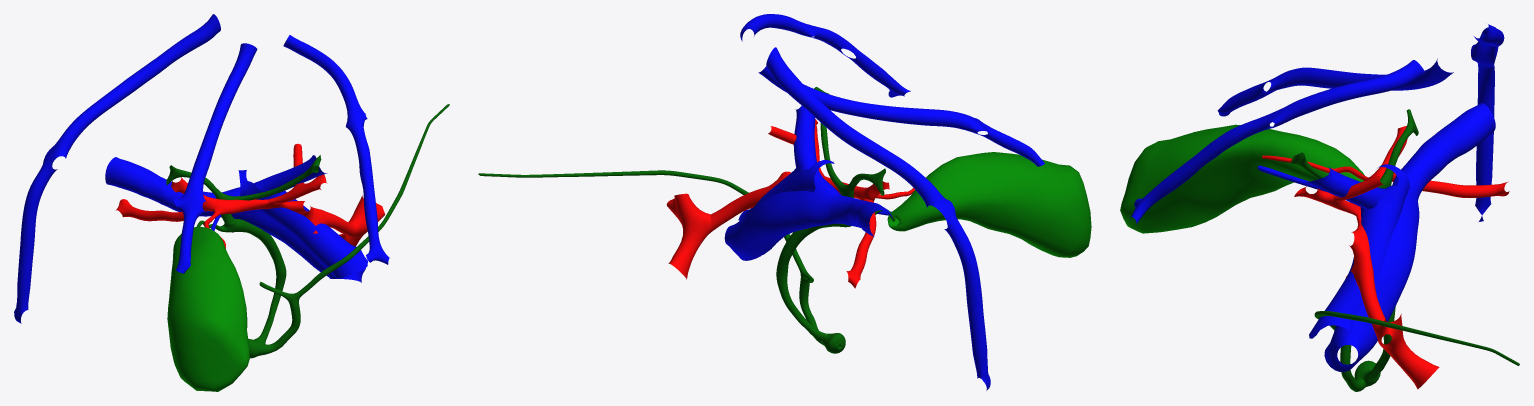
Rendered from VH_M_Liver_Landmarks.glb.
3 renders of one model, left to right at view 1: azimuth 30°, elevation 25°; view 2: azimuth 150°, elevation 25°; view 3: azimuth 270°, elevation 25°, orthographic. The views are drawn at different scales.
Visible parts, largest first — view 1: VH_M_liver_landmark_veins_of_liver, VH_M_liver_landmark_gallbladder, VH_M_liver_landmark_biliary_tree, VH_M_liver_landmark_arteries_of_liver; view 2: VH_M_liver_landmark_veins_of_liver, VH_M_liver_landmark_gallbladder, VH_M_liver_landmark_biliary_tree, VH_M_liver_landmark_arteries_of_liver; view 3: VH_M_liver_landmark_veins_of_liver, VH_M_liver_landmark_gallbladder, VH_M_liver_landmark_arteries_of_liver, VH_M_liver_landmark_biliary_tree, VH_M_liver_landmark_cystic_artery, VH_M_liver_landmark_cystic_vein.
Boxes of the visible parts, x1,y1,x2,y2 form: VH_M_liver_landmark_veins_of_liver: (14, 14, 389, 323); VH_M_liver_landmark_gallbladder: (167, 227, 249, 391); VH_M_liver_landmark_biliary_tree: (166, 104, 449, 358); VH_M_liver_landmark_arteries_of_liver: (116, 143, 385, 246); VH_M_liver_landmark_veins_of_liver: (724, 14, 1044, 390); VH_M_liver_landmark_gallbladder: (887, 152, 1091, 257); VH_M_liver_landmark_biliary_tree: (478, 87, 895, 353); VH_M_liver_landmark_arteries_of_liver: (666, 119, 889, 288); VH_M_liver_landmark_veins_of_liver: (1131, 24, 1504, 371); VH_M_liver_landmark_gallbladder: (1120, 124, 1364, 233); VH_M_liver_landmark_arteries_of_liver: (1294, 126, 1509, 389); VH_M_liver_landmark_biliary_tree: (1291, 109, 1519, 391); VH_M_liver_landmark_cystic_artery: (1262, 155, 1367, 180); VH_M_liver_landmark_cystic_vein: (1257, 165, 1325, 191).
Size of the model in its own units: 0.1836 by 0.1203 by 0.1156.
